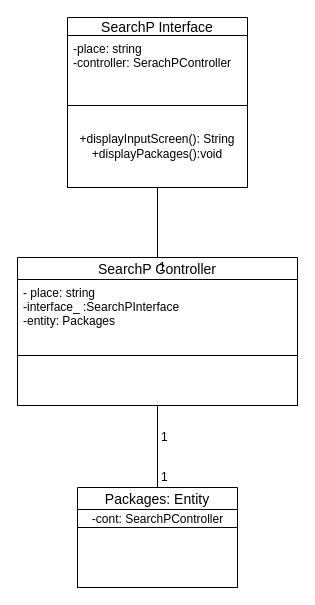
Some shapes in this 315 by 605 pixel diagram are drawn without their labels. Each missing label, with the centre of its shape:
+getPlace(): void +checkValidity(): bool +getPackages(): List: the point at 157,380
+searchPackages(place):List: the point at 157,557
